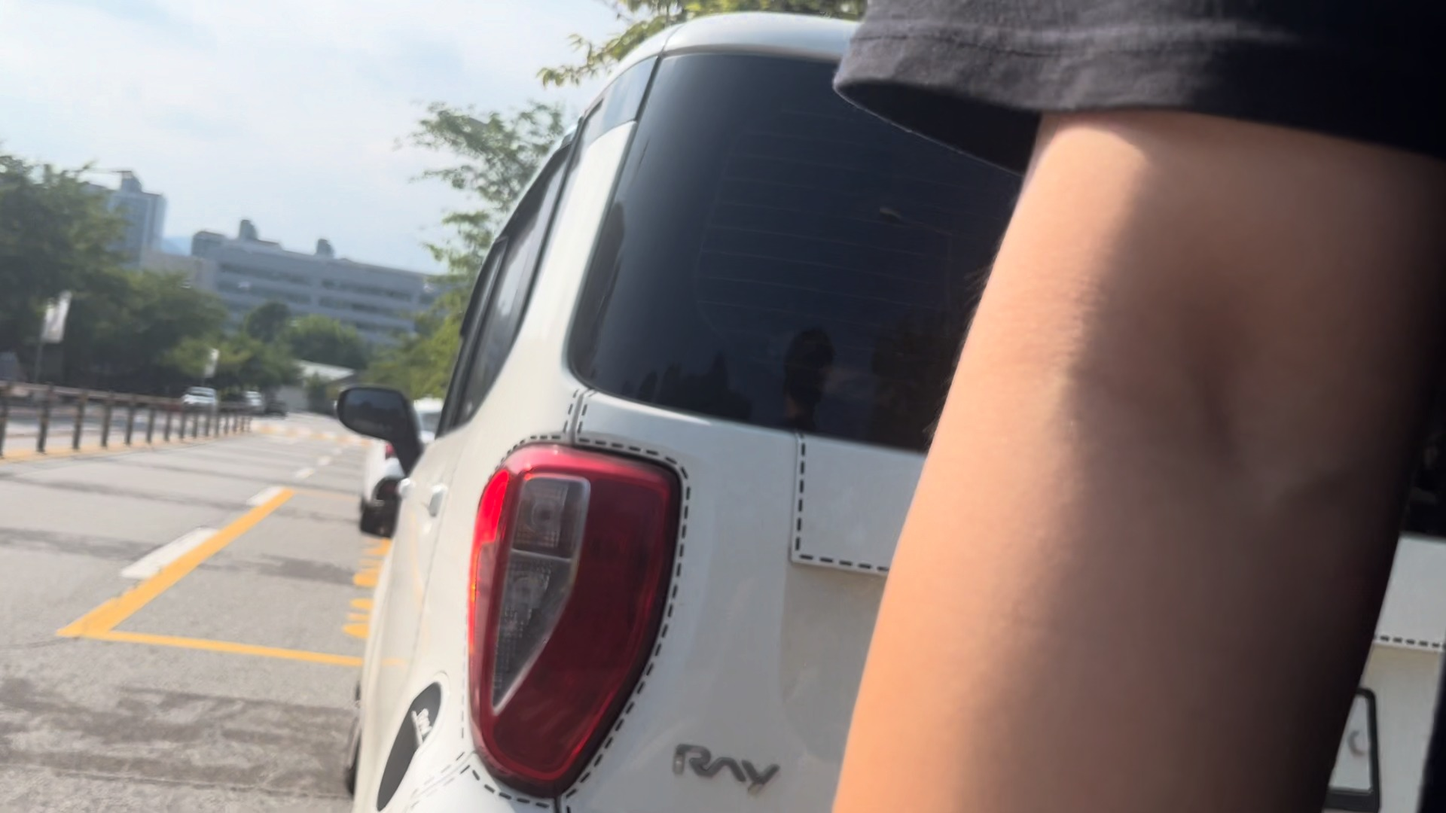side_mirror: (336, 385, 420, 472)
tail_light: (468, 445, 679, 796), (383, 443, 395, 458)
